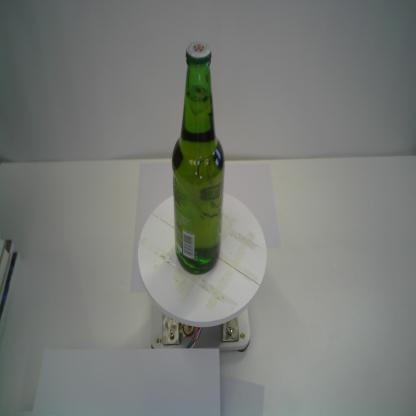Alcohol: (170, 38, 227, 272)
